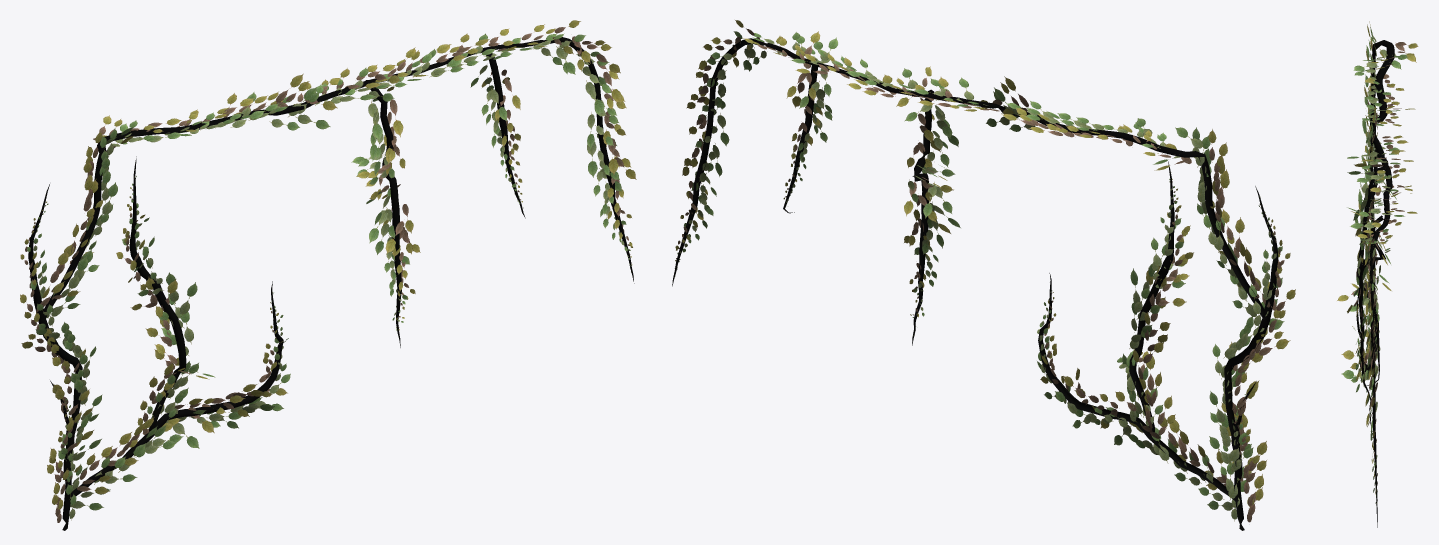
The model's file is Vine - mask 01.fbx.
3 views of the same model, side by side, from view 1: azimuth 30°, elevation 25°; view 2: azimuth 150°, elevation 25°; view 3: azimuth 270°, elevation 25° (orthographic). The views are drawn at different scales.
Visible parts, largest first — view 1: Vine_mask_01_LOD0; view 2: Vine_mask_01_LOD0; view 3: Vine_mask_01_LOD0.
Part boxes in pixels (x1,y1,x2,y2): Vine_mask_01_LOD0: (20,20,636,530); Vine_mask_01_LOD0: (672,20,1295,530); Vine_mask_01_LOD0: (1337,21,1418,527).
Size of what is drawn, in the model's own units: 4.99 by 0.6935 by 3.08.
